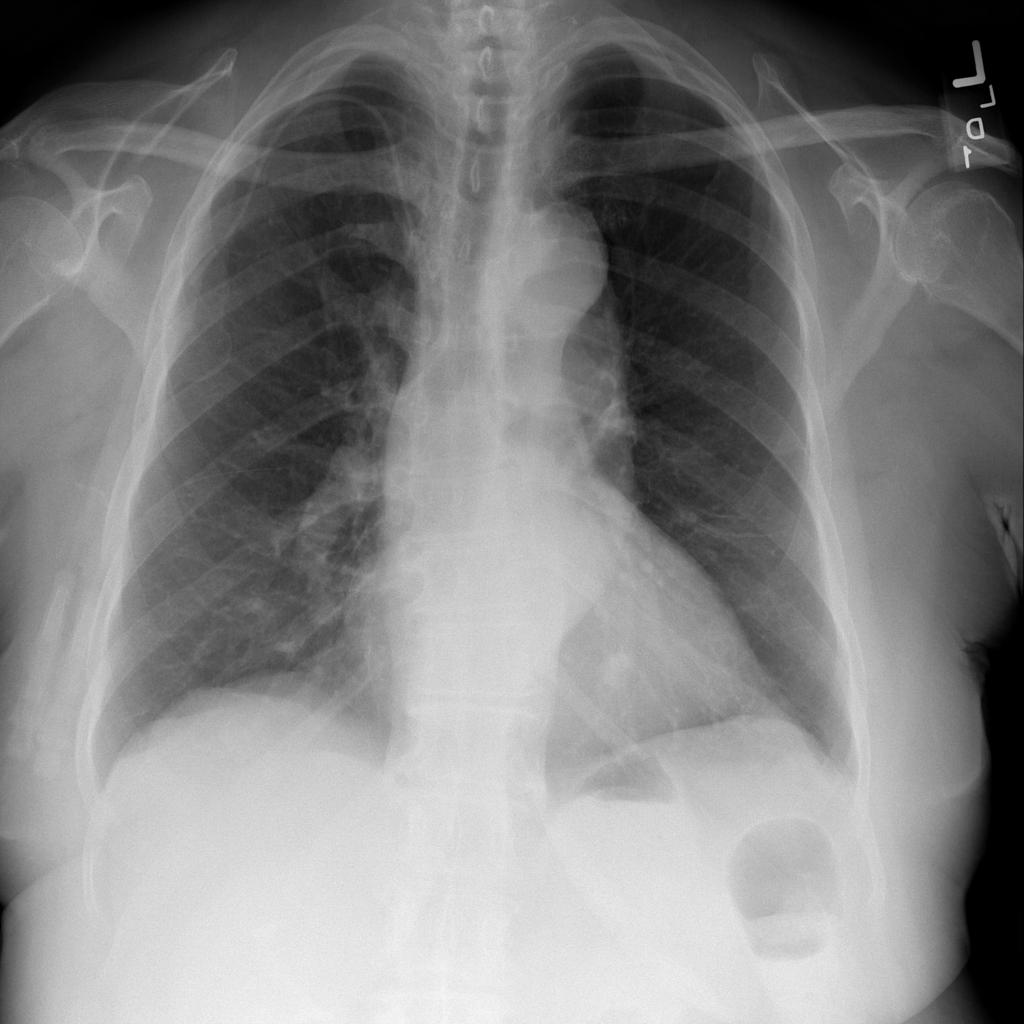nodule: (582, 633, 655, 709)
